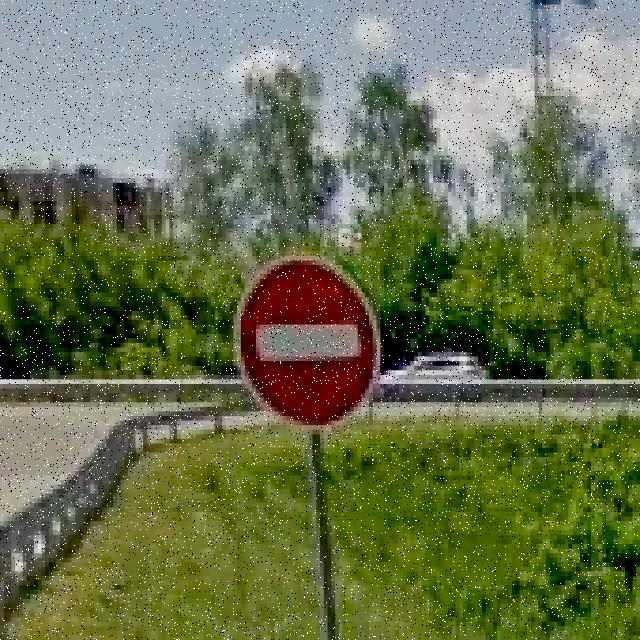Zakaz wjazdu: (234, 252, 380, 429)
